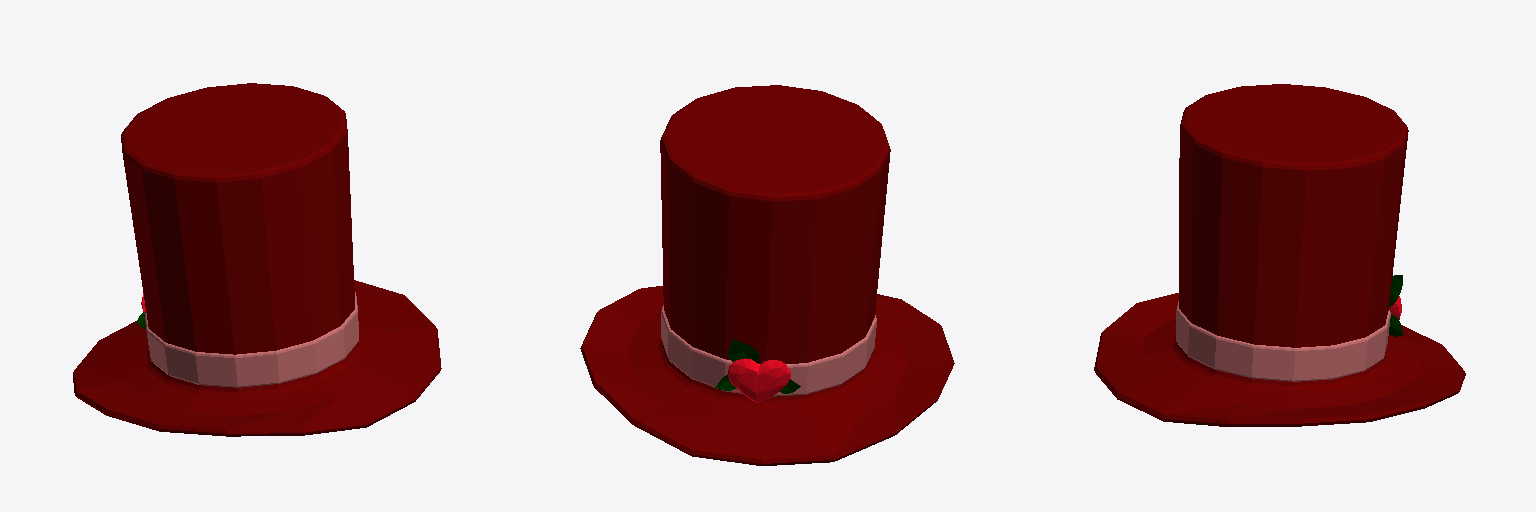
Rendered from tophat_heart.obj.
The picture shows the model from 3 angles: view 1: azimuth 30°, elevation 25°; view 2: azimuth 150°, elevation 25°; view 3: azimuth 270°, elevation 25°; orthographic projection.
Visible parts, largest first — view 1: 0, 1; view 2: 0, 1, 3, 2; view 3: 0, 1.
Part boxes in pixels (x1,y1,x2,y2): 0: (73, 83, 441, 436); 1: (145, 292, 358, 387); 0: (580, 85, 954, 465); 1: (661, 305, 876, 396); 3: (727, 358, 790, 403); 2: (715, 339, 800, 393); 0: (1094, 84, 1465, 426); 1: (1176, 301, 1390, 381).
Bounding box in the file's own units: 0.5709 × 0.4535 × 0.5712.